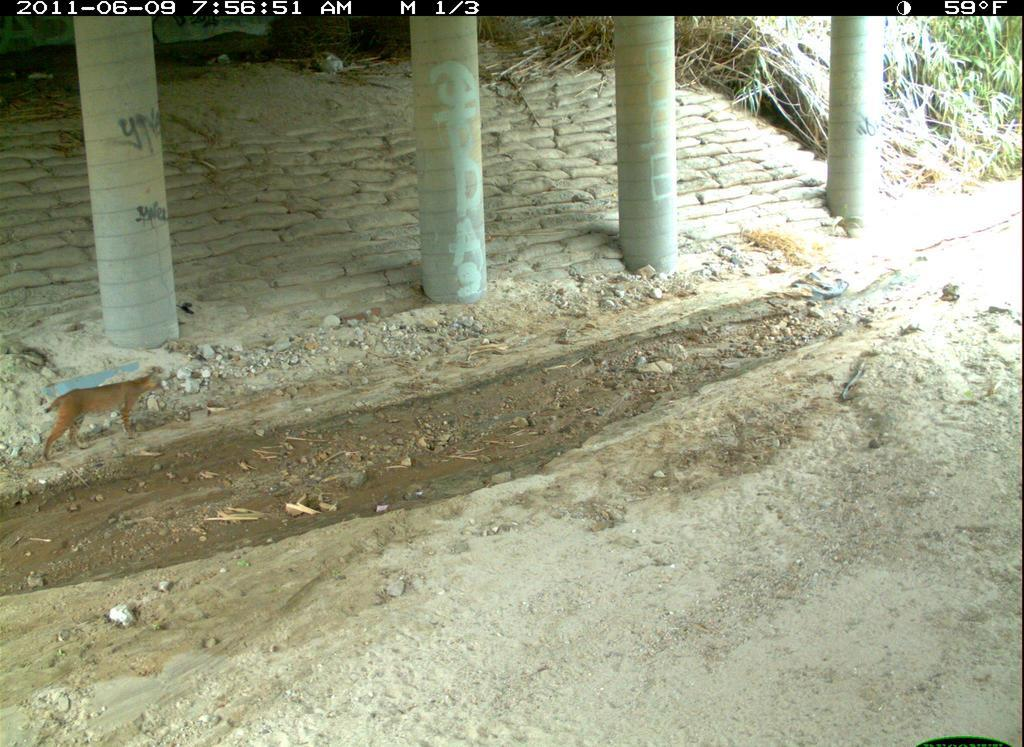bobcat: (77, 730, 337, 747)
